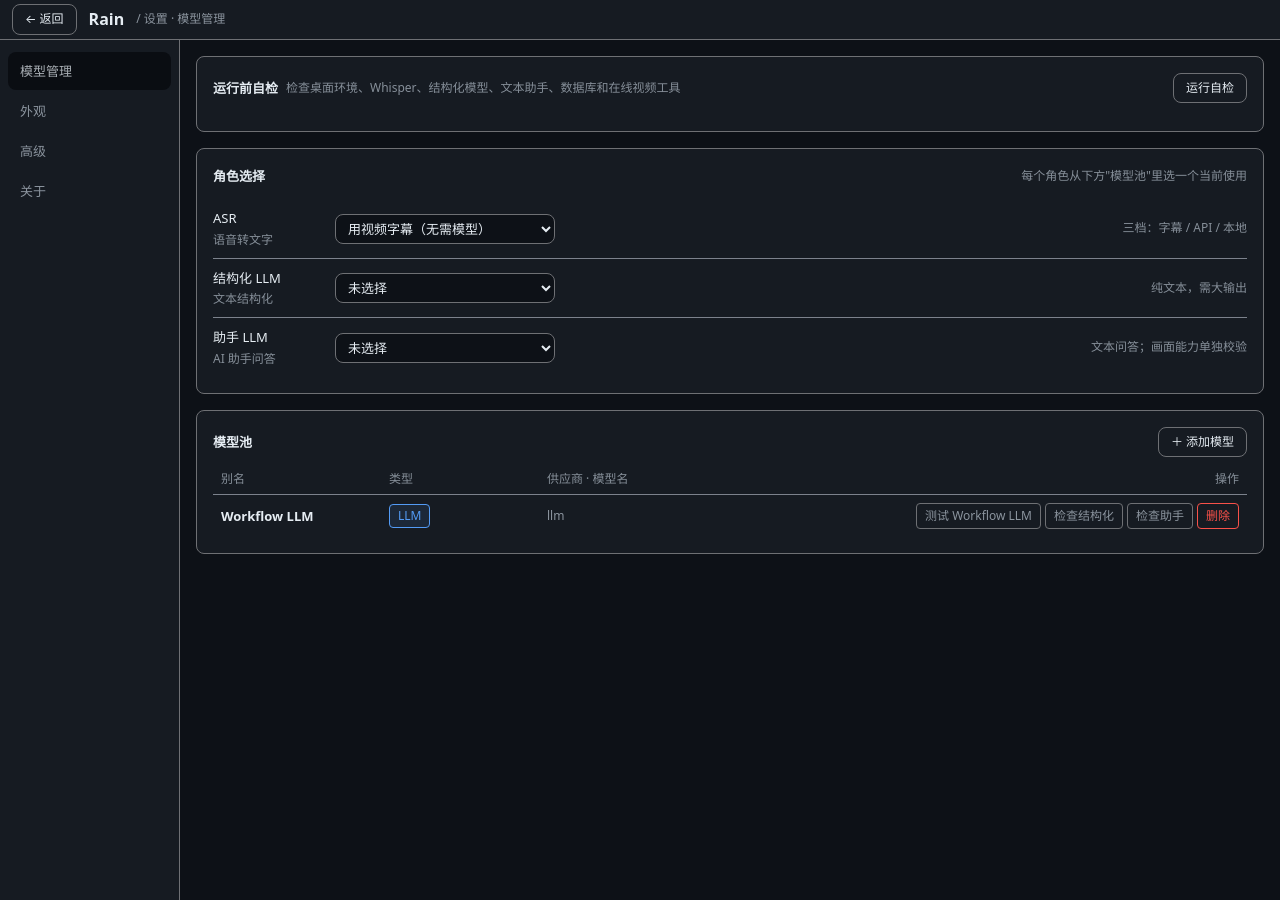
Test case: AC-LV-12 settings structuring capability workflow › persists a passing Stage2 check and unlocks the structuring role option
Click the button "检查结构化".
click(1084, 516)  # box [1045, 503, 1123, 529]
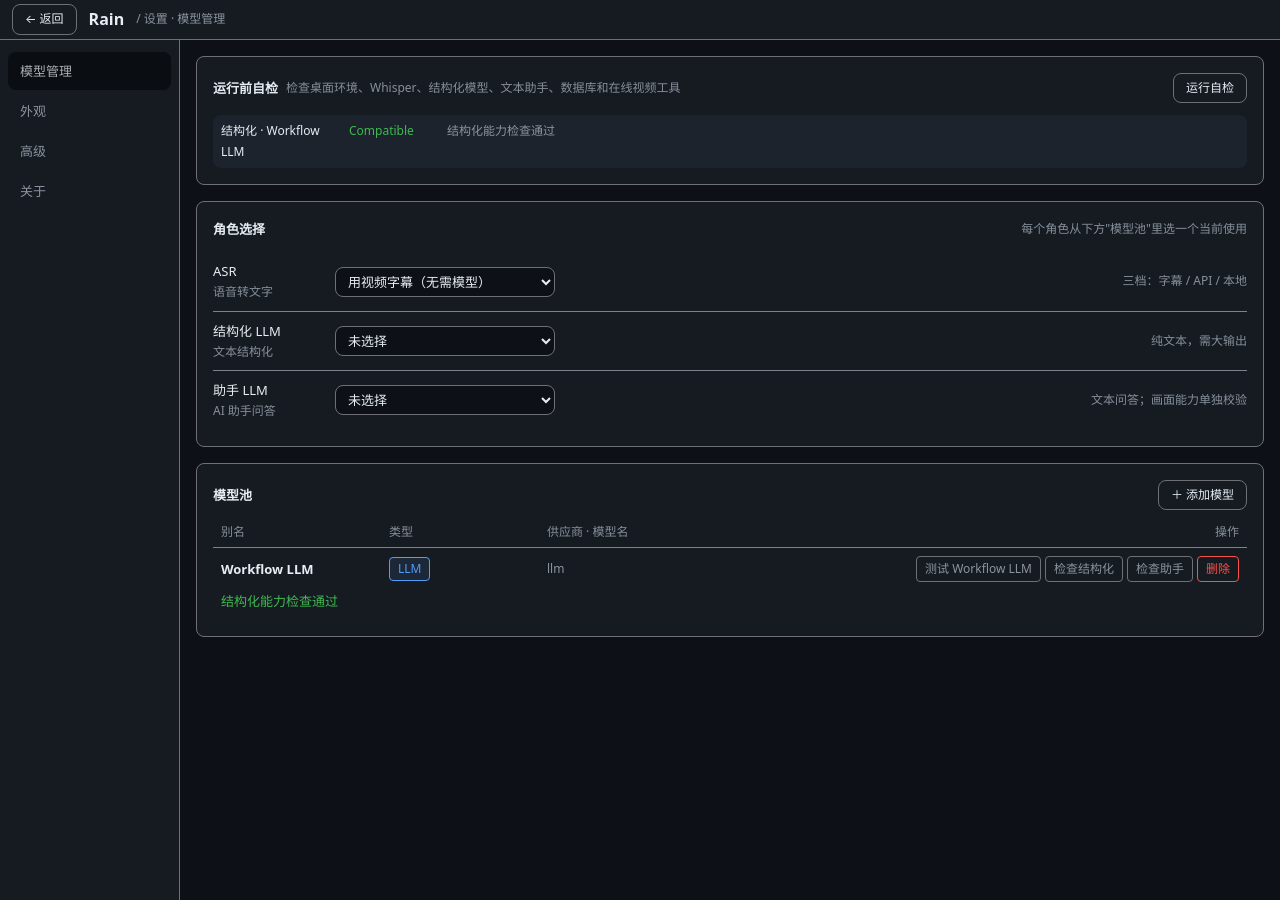
Expected: the message reads "结构化能力检查通过", [221, 592, 338, 610]
